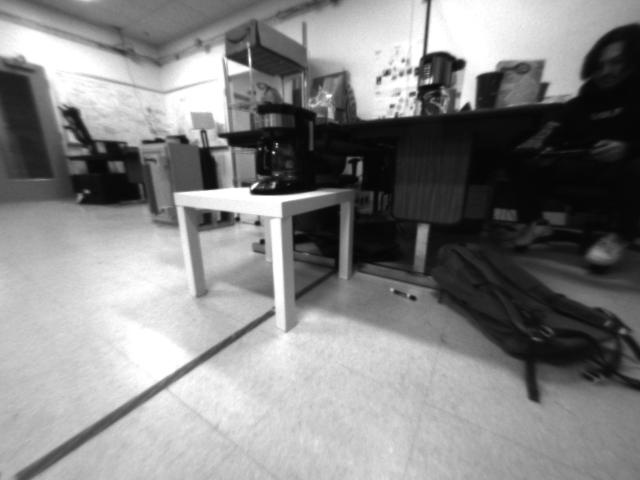coffee_pot: (246, 102, 325, 196)
